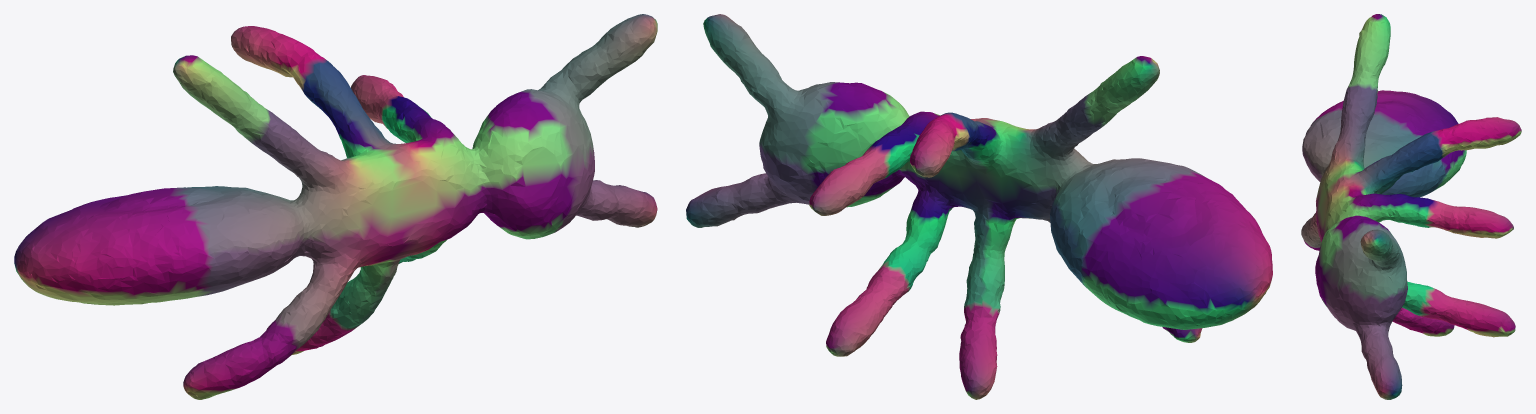
File: ant-17.off.obj
The picture shows the model from 3 angles, left to right: view 1: azimuth 30°, elevation 25°; view 2: azimuth 150°, elevation 25°; view 3: azimuth 270°, elevation 25°; orthographic projection. The views are drawn at different scales.
Size of the model in its own units: 1.67 by 0.9282 by 0.6837.
